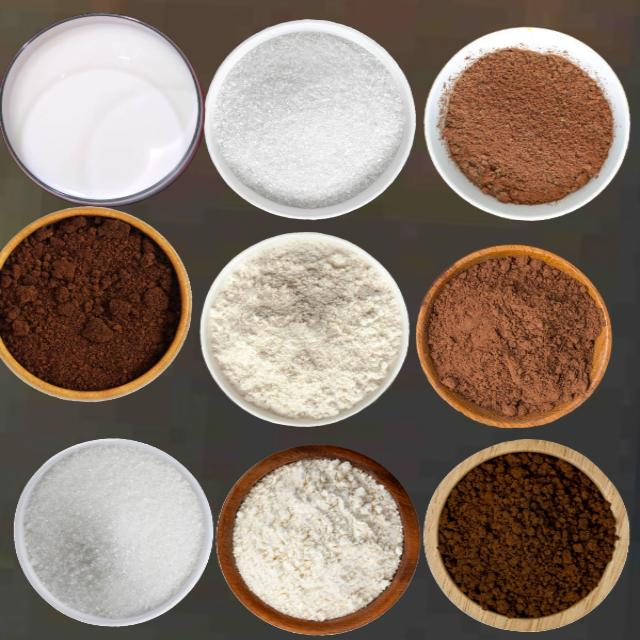Cocoa: (420, 248, 608, 425), (438, 45, 614, 205)
Coffee: (0, 211, 181, 392), (436, 450, 618, 619)
Flour: (207, 239, 402, 419), (231, 456, 403, 621)
Sugar: (210, 30, 405, 208), (21, 441, 204, 619)
